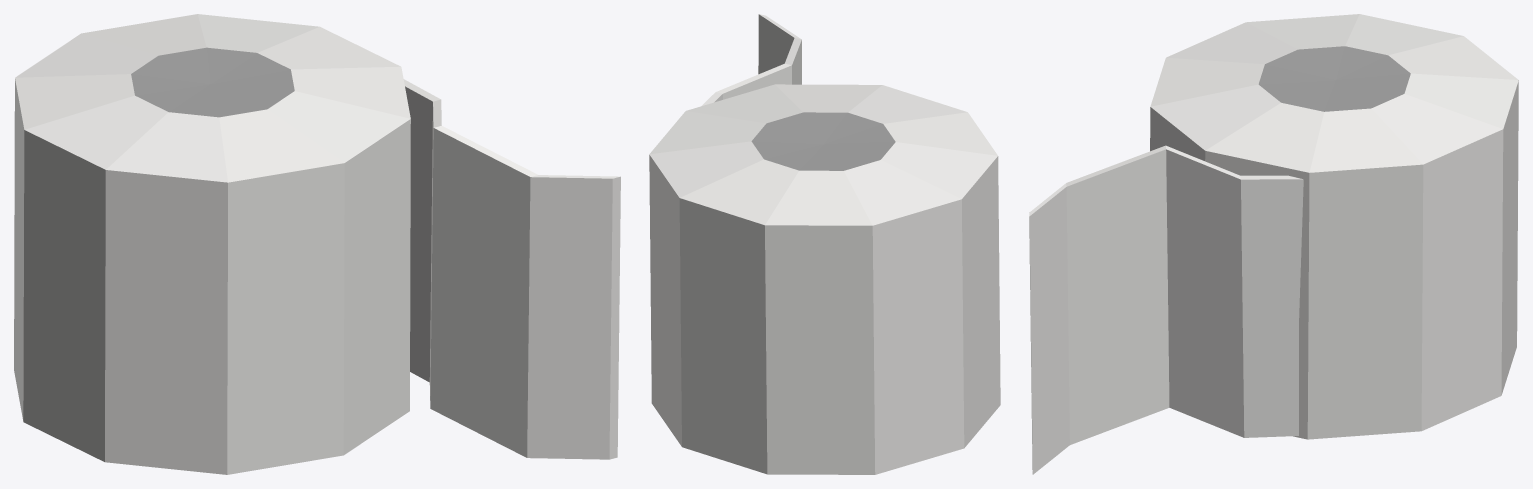
File: Paper_1.fbx
The picture shows the model from 3 angles, left to right: view 1: azimuth 30°, elevation 25°; view 2: azimuth 150°, elevation 25°; view 3: azimuth 270°, elevation 25°; orthographic projection. The views are drawn at different scales.
Parts seen in each view (by area): view 1: Paper_1; view 2: Paper_1; view 3: Paper_1.
Part boxes in pixels (left/top/right/bottom): Paper_1: left=14, top=14, right=620, bottom=474; Paper_1: left=649, top=14, right=1000, bottom=474; Paper_1: left=1029, top=14, right=1518, bottom=474.
Size of the model in its own units: 23.07 by 25.42 by 16.93.
